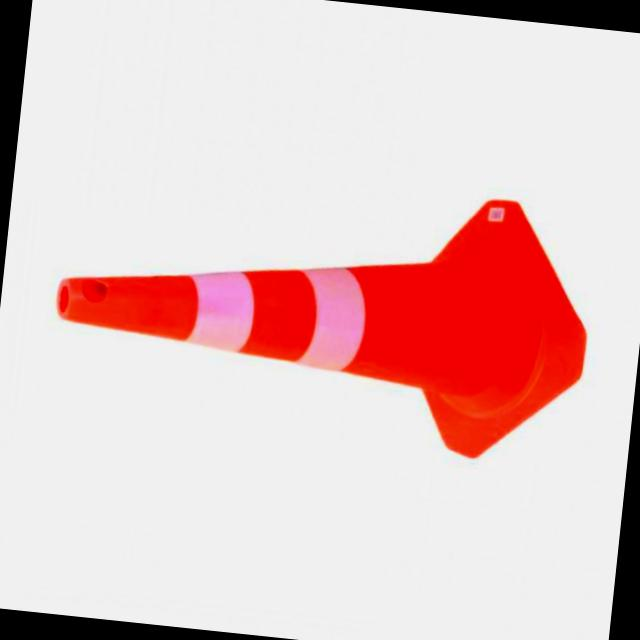cone: (31, 134, 592, 494)
